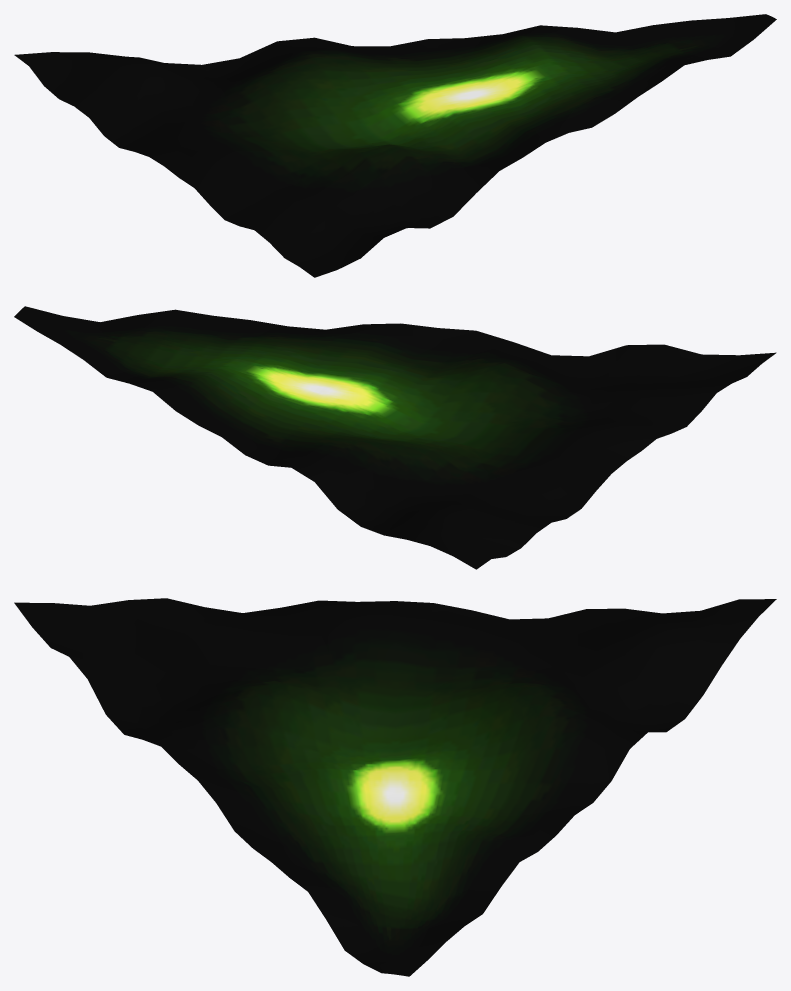
3 views of the same model, one above another, from view 1: azimuth 30°, elevation 25°; view 2: azimuth 150°, elevation 25°; view 3: azimuth 270°, elevation 25° (orthographic). The views are drawn at different scales.
Size of the model in its own units: 2.2 by 0.1179 by 1.89.
1 material, 1 textured.
